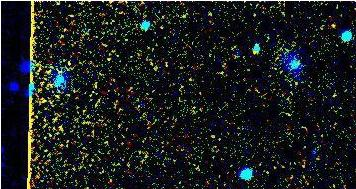star: (240, 35, 270, 65)
